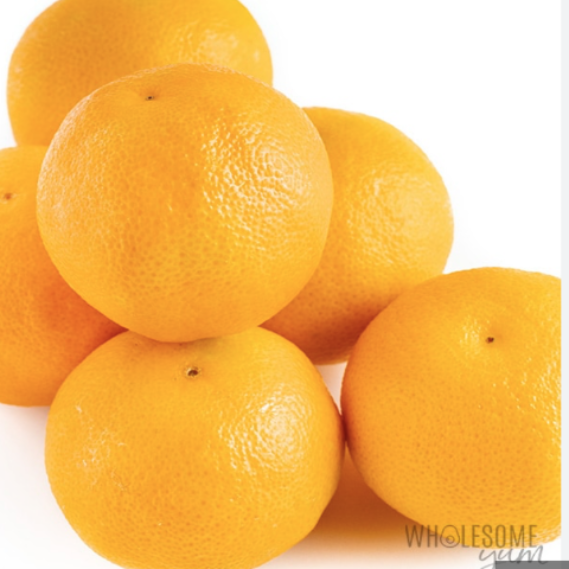orange: (28, 315, 390, 569), (25, 66, 354, 343), (336, 222, 569, 548)
